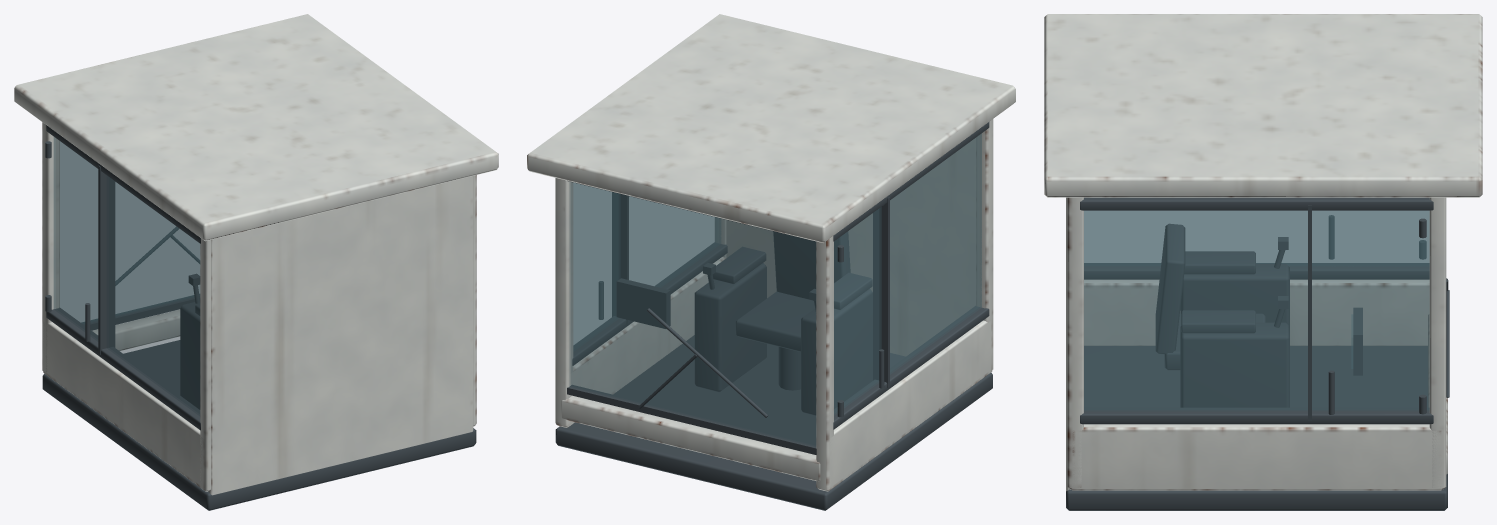
Rendered from operator_cab.glb.
3 renders of one model, left to right at view 1: azimuth 30°, elevation 25°; view 2: azimuth 150°, elevation 25°; view 3: azimuth 270°, elevation 25°, orthographic. The views are drawn at different scales.
Parts seen in each view (by area): view 1: operator_cab; view 2: operator_cab; view 3: operator_cab.
Boxes of the visible parts, <box> form: operator_cab: <box>14,14,498,510</box>; operator_cab: <box>527,14,1015,510</box>; operator_cab: <box>1044,14,1482,510</box>.
Bounding box in the file's own units: 2.36 × 2.27 × 2.64.
Materials: 3 (1 with a texture image).
